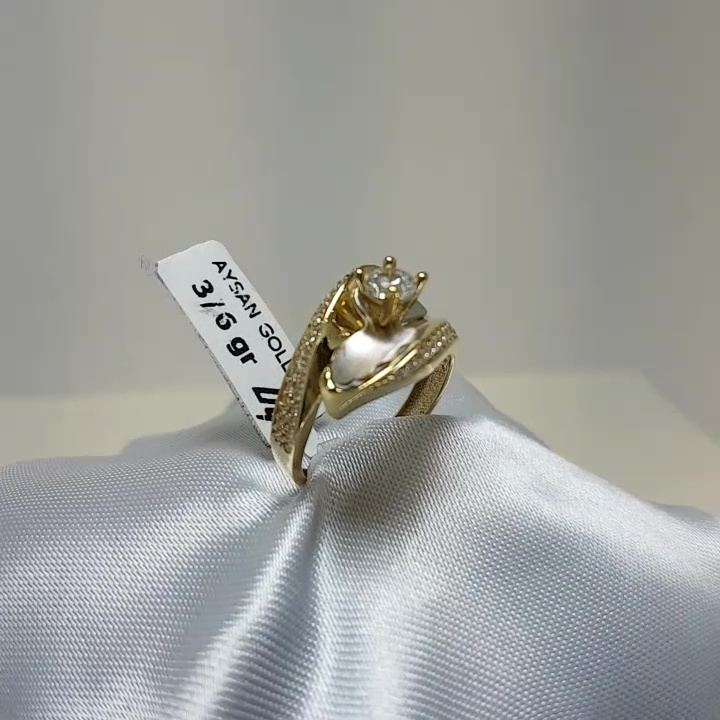Ring 6: (251, 246, 469, 510)
